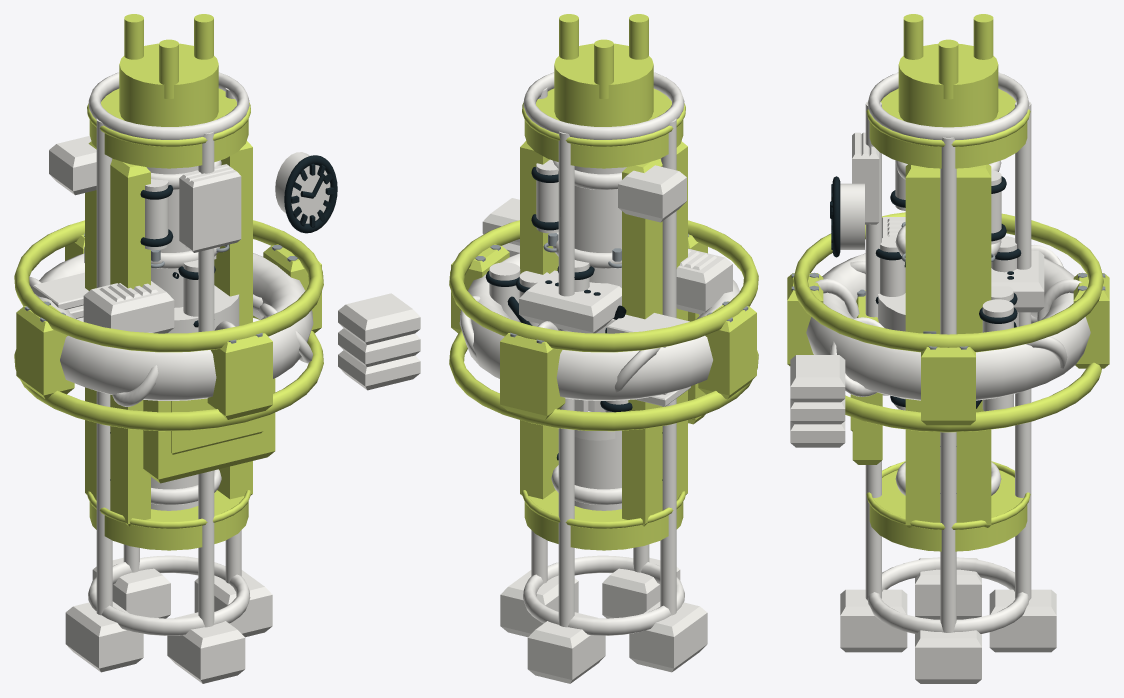
File: cyclotron-machine.obj
3 renders of one model, left to right at view 1: azimuth 30°, elevation 25°; view 2: azimuth 150°, elevation 25°; view 3: azimuth 270°, elevation 25°, orthographic.
Visible parts, largest first — view 1: 28, 12, 01, 30, 29, 35, 36, 43, 14, 41, 07, 17 (+1 smaller); view 2: 28, 12, 01, 30, 03, 41, 14, 15, 11, 17, 35, 10; view 3: 28, 12, 01, 30, 35, 43, 03, 29, 36, 15, 06, 11 (+1 smaller).
Part boxes in pixels (x1,y1,x2,y2): 28: (14, 88, 323, 550); 12: (65, 72, 272, 683); 01: (29, 160, 313, 510); 30: (119, 14, 218, 126); 29: (143, 378, 275, 483); 35: (338, 293, 420, 390); 36: (179, 164, 241, 252); 43: (275, 152, 337, 233); 14: (83, 281, 174, 333); 41: (49, 136, 96, 195); 07: (140, 179, 173, 250); 17: (32, 272, 88, 321); 28: (449, 88, 758, 550); 12: (500, 72, 707, 683); 01: (459, 160, 739, 510); 30: (554, 14, 653, 126); 03: (519, 270, 621, 333); 41: (618, 165, 686, 222); 14: (676, 248, 732, 314); 15: (485, 262, 549, 326); 11: (531, 159, 558, 233); 17: (607, 305, 690, 406); 35: (482, 198, 519, 256); 10: (557, 260, 594, 291); 28: (787, 88, 1109, 551); 12: (840, 72, 1056, 683); 01: (806, 160, 1090, 495); 30: (898, 14, 998, 127); 35: (790, 355, 845, 447); 43: (830, 176, 864, 257); 03: (991, 250, 1044, 312); 29: (850, 289, 882, 464); 36: (852, 132, 879, 224); 15: (979, 286, 1017, 411); 06: (875, 236, 905, 303); 11: (991, 170, 1006, 244).
Bounding box in the file's own units: 5.8 × 10.94 × 5.18.
